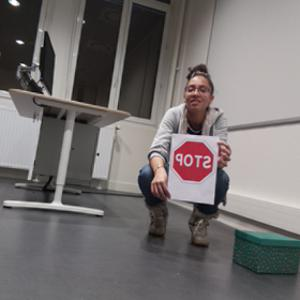small: (229, 226, 300, 279)
